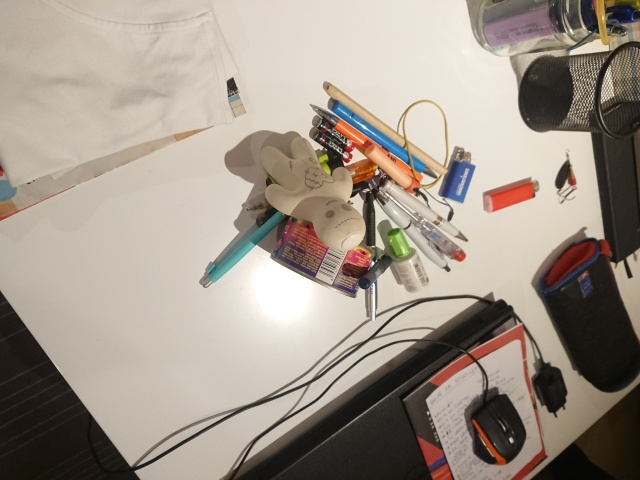Giana Tuna Salad Mexico 185g: (267, 214, 379, 301)
